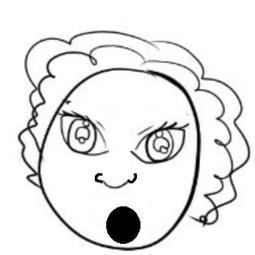eye: (129, 119, 190, 165), (59, 109, 110, 157)
nose: (87, 170, 142, 190)
open_mouth: (101, 201, 142, 245)
